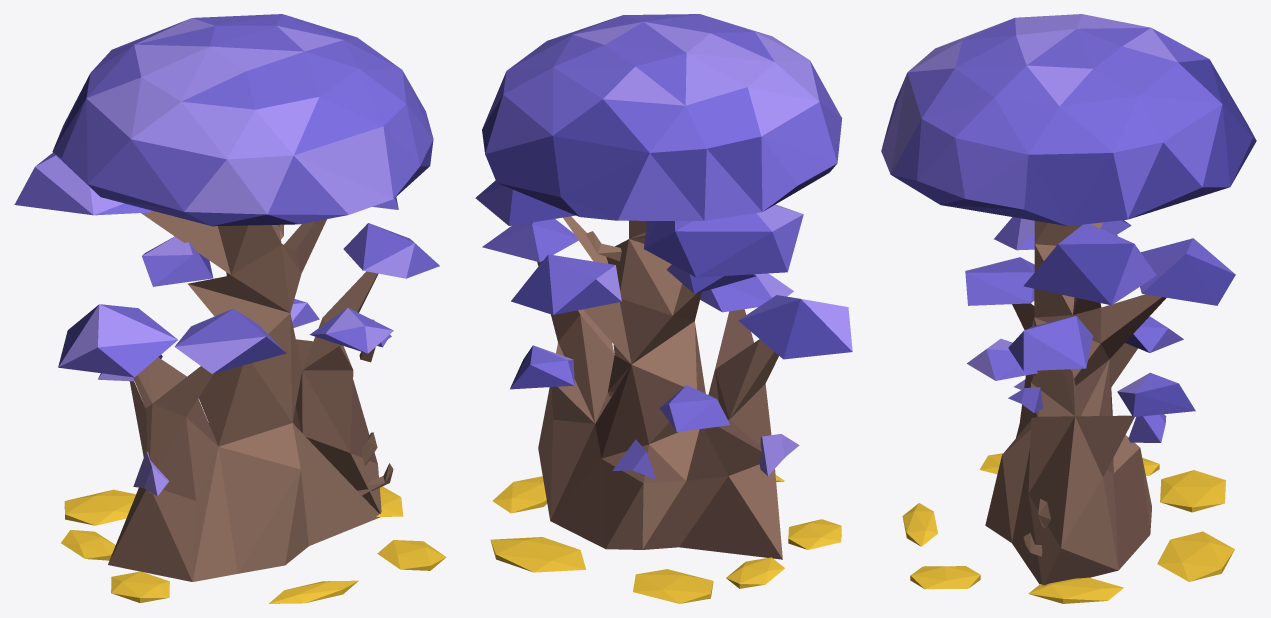
File: giant_mushroom_bloom_far.glb
The picture shows the model from 3 angles, left to right: view 1: azimuth 30°, elevation 25°; view 2: azimuth 150°, elevation 25°; view 3: azimuth 270°, elevation 25°; orthographic projection. The views are drawn at different scales.
Visible parts, largest first — view 1: giant_mushroom_bloom_far; view 2: giant_mushroom_bloom_far; view 3: giant_mushroom_bloom_far.
Boxes of the visible parts, x1,y1,x2,y2 form: giant_mushroom_bloom_far: [14, 14, 446, 603]; giant_mushroom_bloom_far: [475, 14, 852, 603]; giant_mushroom_bloom_far: [881, 14, 1256, 603].
Size of the model in its own units: 17.04 by 22.11 by 15.41.
